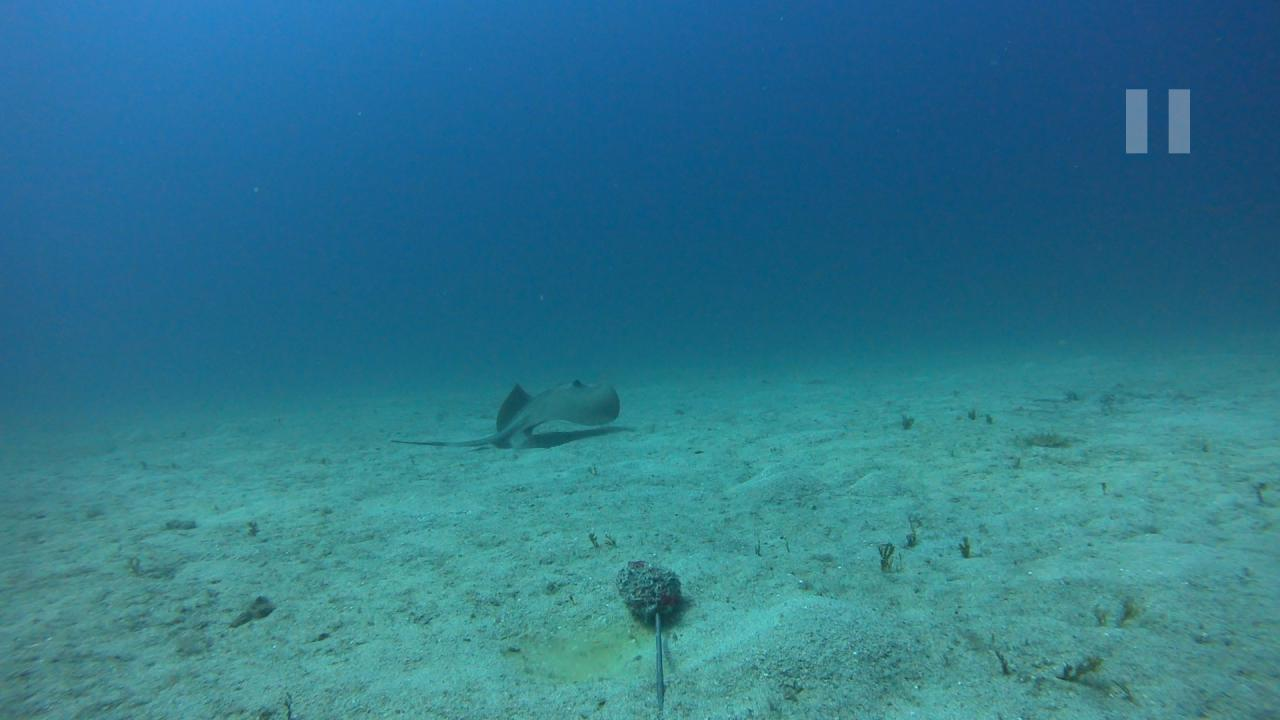dasyatis: (386, 379, 622, 447)
